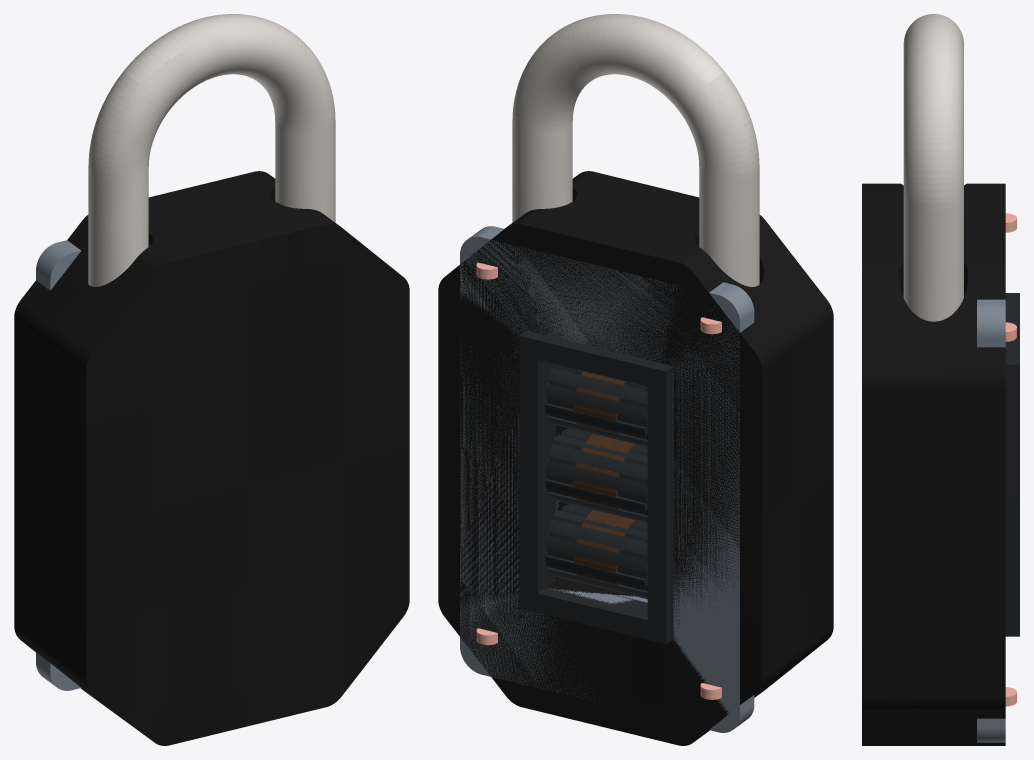
The model's file is Equipment_Lock__0010.glb.
3 renders of one model, left to right at view 1: azimuth 30°, elevation 25°; view 2: azimuth 150°, elevation 25°; view 3: azimuth 270°, elevation 25°, orthographic.
Visible parts, largest first — view 1: body::body_shell, shackle::shackle_bar, body::faceplate; view 2: body::body_shell, body::faceplate, shackle::shackle_bar, body::dial_frame, dial_1::dial_1_wheel, dial_2::dial_2_wheel, dial_3::dial_3_wheel, dial_2::dial_2_band, dial_1::dial_1_band, body::rivets, dial_3::dial_3_band; view 3: body::body_shell, shackle::shackle_bar, body::dial_frame, body::faceplate, body::rivets.
Part boxes in pixels (x1=…): body::body_shell: x1=14, y1=171, x2=409, y2=745; shackle::shackle_bar: x1=88, y1=14, x2=335, y2=286; body::faceplate: x1=36, y1=240, x2=81, y2=690; body::body_shell: x1=438, y1=171, x2=833, y2=745; body::faceplate: x1=460, y1=226, x2=754, y2=732; shackle::shackle_bar: x1=512, y1=14, x2=759, y2=286; body::dial_frame: x1=519, y1=330, x2=673, y2=644; dial_1::dial_1_wheel: x1=545, y1=504, x2=647, y2=598; dial_2::dial_2_wheel: x1=545, y1=428, x2=647, y2=522; dial_3::dial_3_wheel: x1=545, y1=364, x2=647, y2=447; dial_2::dial_2_band: x1=574, y1=434, x2=639, y2=509; dial_1::dial_1_band: x1=574, y1=510, x2=639, y2=585; body::rivets: x1=476, y1=262, x2=721, y2=699; dial_3::dial_3_band: x1=574, y1=371, x2=625, y2=434; body::body_shell: x1=862, y1=183, x2=1005, y2=745; shackle::shackle_bar: x1=903, y1=14, x2=963, y2=321; body::dial_frame: x1=1005, y1=293, x2=1019, y2=636; body::faceplate: x1=977, y1=299, x2=1005, y2=742; body::rivets: x1=1005, y1=213, x2=1016, y2=706.
Bounding box in the file's own units: 0.052 × 0.1045 × 0.022.
Materials: 6 (6 with a texture image).
